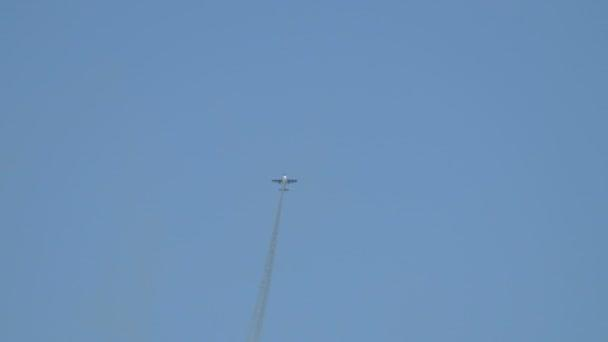Plane: (257, 167, 312, 199)
